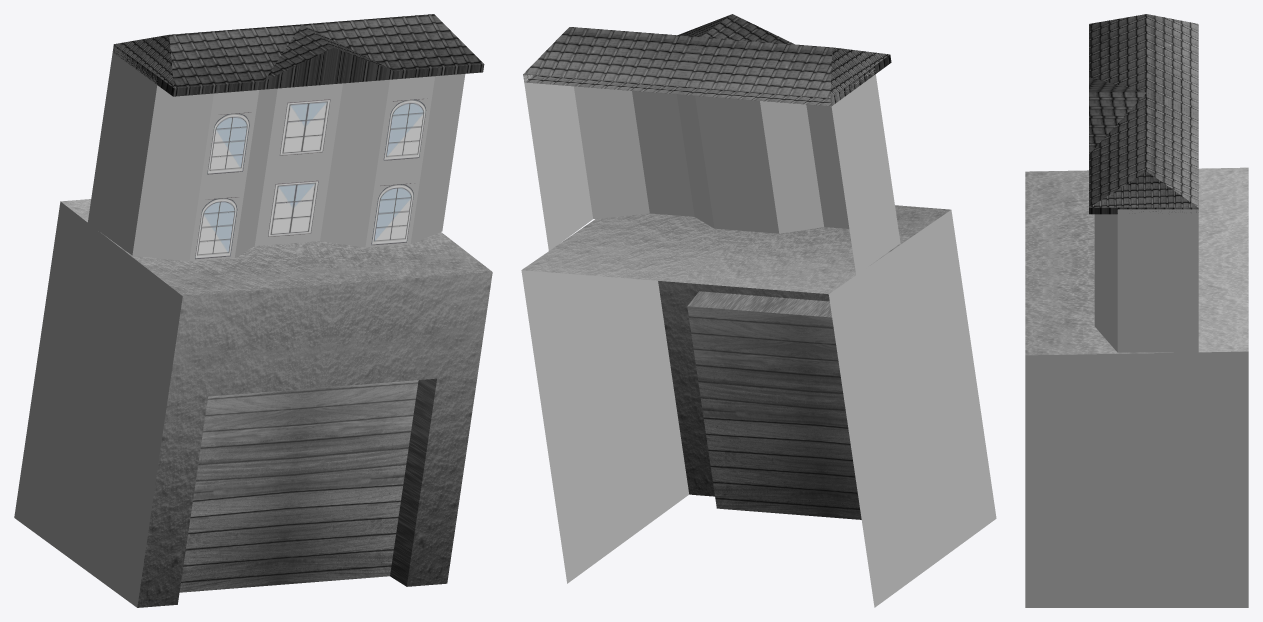
Rendered from Casa1.fbx.
3 views of the same model, side by side, from view 1: azimuth 30°, elevation 25°; view 2: azimuth 150°, elevation 25°; view 3: azimuth 270°, elevation 25° (orthographic). The views are drawn at different scales.
Visible parts, largest first — view 1: Cube.001; view 2: Cube.001; view 3: Cube.001.
Boxes of the visible parts, bbox=[...] form: Cube.001: bbox=[14, 14, 492, 607]; Cube.001: bbox=[521, 14, 996, 607]; Cube.001: bbox=[1025, 14, 1248, 607].
Size of the model in its own units: 76898 by 106093 by 42911.
